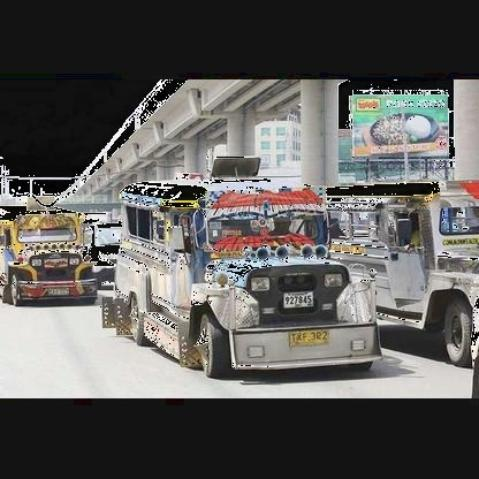jeepney: (111, 166, 385, 377), (324, 178, 479, 365), (0, 200, 100, 309)
